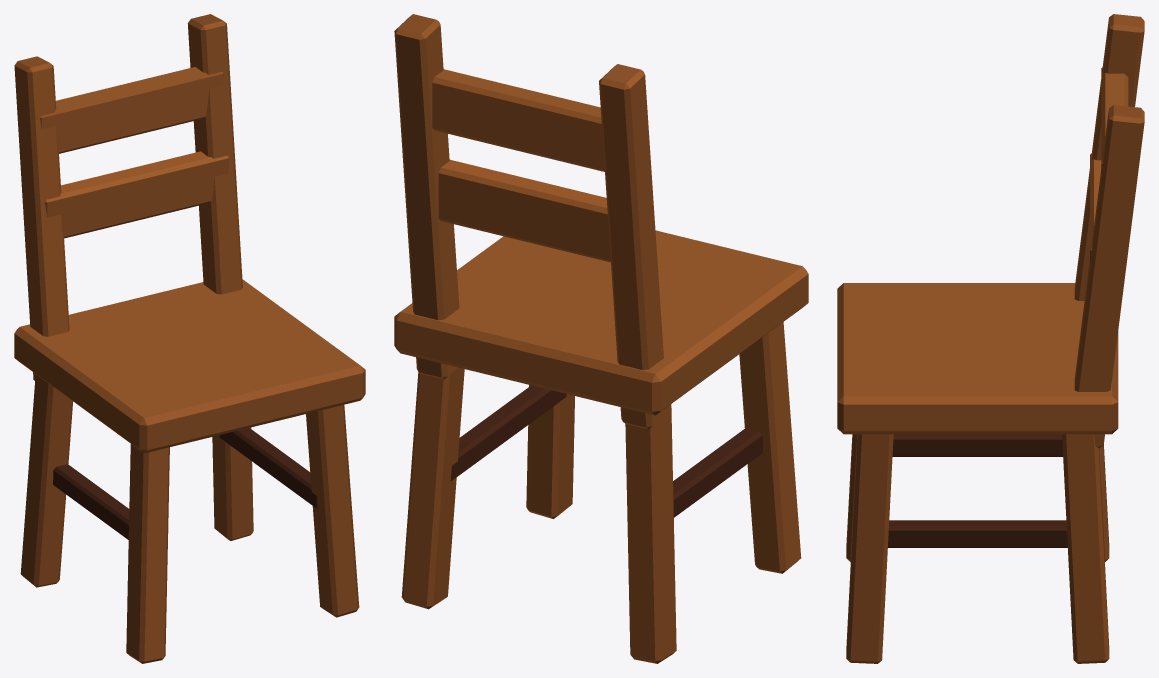
File: EH_Chair.fbx
The picture shows the model from 3 angles, left to right: view 1: azimuth 30°, elevation 25°; view 2: azimuth 150°, elevation 25°; view 3: azimuth 270°, elevation 25°; orthographic projection. The views are drawn at different scales.
Visible parts, largest first — view 1: EH_Chair; view 2: EH_Chair; view 3: EH_Chair.
Part boxes in pixels (x1,y1,x2,y2): EH_Chair: (14,14,365,663); EH_Chair: (394,14,808,663); EH_Chair: (837,14,1144,663).
Bounding box in the file's own units: 0.47 × 1 × 0.514.
